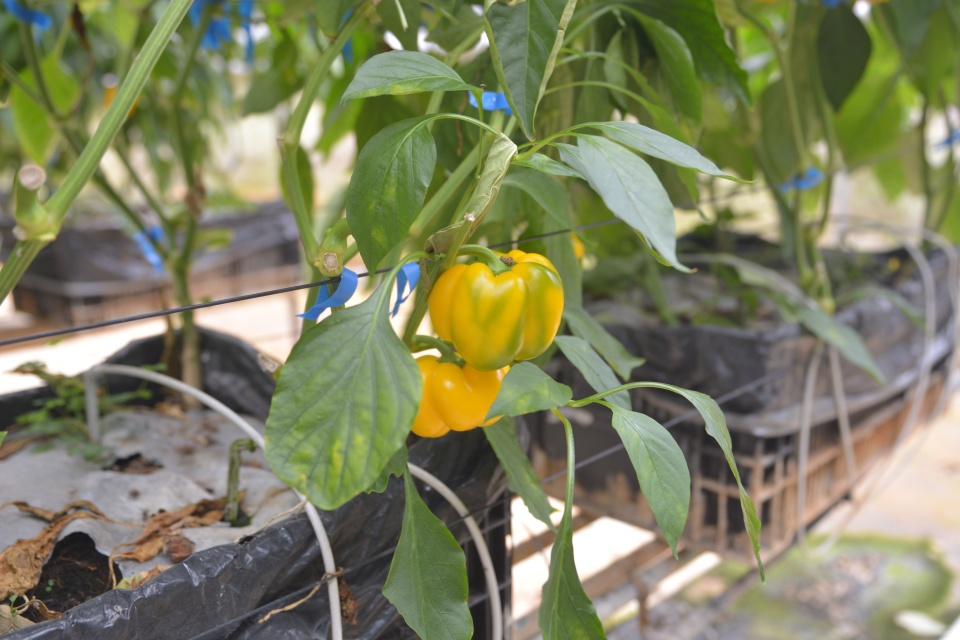fruit: (426, 245, 568, 373), (407, 350, 512, 439)
pedicle: (436, 356, 466, 366)
